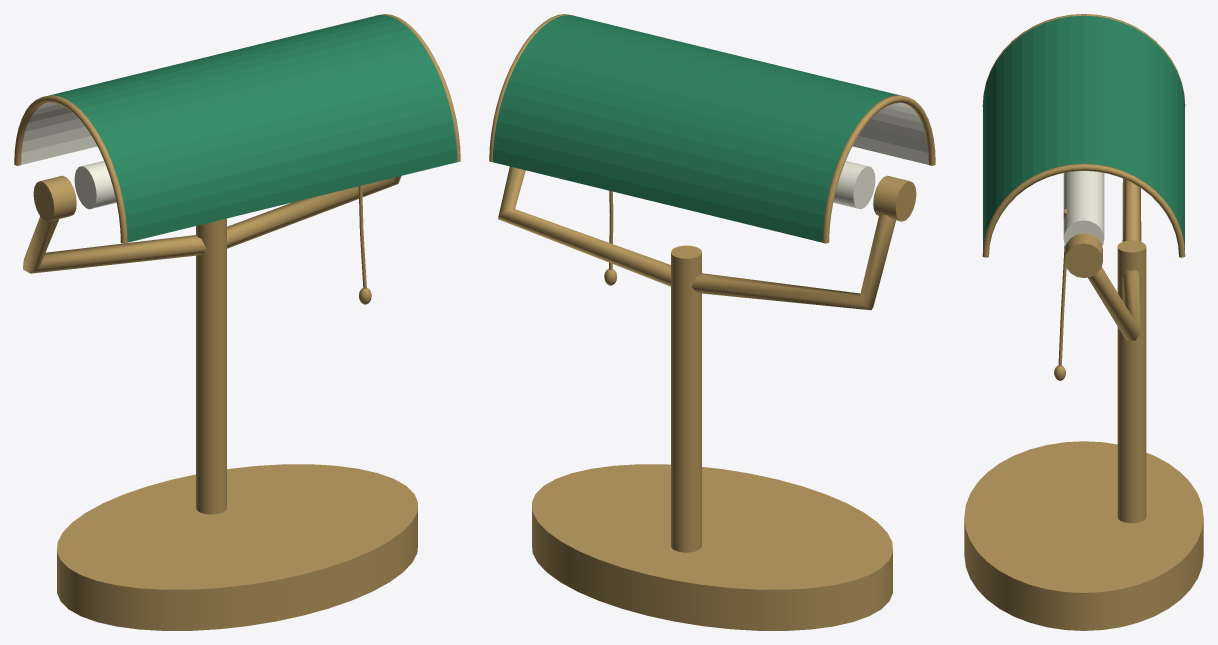
The model's file is lamp_bankers_desk.glb.
3 views of the same model, side by side, from view 1: azimuth 30°, elevation 25°; view 2: azimuth 150°, elevation 25°; view 3: azimuth 270°, elevation 25° (orthographic). The views are drawn at different scales.
Visible parts, largest first — view 1: Arched green bankers shade, Oval bankers lamp base, Upright brass stem, Curved shade support, Curved shade support.001, Shade end rim, Shade pivot knob, Horizontal pale bulb, Shade end rim.001; view 2: Arched green bankers shade, Oval bankers lamp base, Upright brass stem, Curved shade support, Curved shade support.001, Shade end rim, Shade pivot knob, Horizontal pale bulb, Shade end rim.001; view 3: Oval bankers lamp base, Arched green bankers shade, Upright brass stem, Horizontal pale bulb, Shade end rim.001, Curved shade support.001, Shade pivot knob.001, Curved shade support, Shade end rim, Fine pull chain.
Boxes of the visible parts, <box> form: Arched green bankers shade: <box>21,15,457,242</box>; Oval bankers lamp base: <box>57,464,417,630</box>; Upright brass stem: <box>196,218,226,514</box>; Curved shade support: <box>23,216,206,273</box>; Curved shade support.001: <box>226,176,401,248</box>; Shade end rim: <box>14,95,127,243</box>; Shade pivot knob: <box>33,175,76,221</box>; Horizontal pale bulb: <box>74,161,116,209</box>; Shade end rim.001: <box>375,14,460,162</box>; Arched green bankers shade: <box>492,15,928,242</box>; Oval bankers lamp base: <box>532,464,892,630</box>; Upright brass stem: <box>671,245,701,552</box>; Curved shade support: <box>691,214,895,310</box>; Curved shade support.001: <box>498,166,671,286</box>; Shade end rim: <box>822,95,935,243</box>; Shade pivot knob: <box>873,175,916,221</box>; Horizontal pale bulb: <box>833,161,875,209</box>; Shade end rim.001: <box>489,14,574,162</box>; Oval bankers lamp base: <box>964,441,1203,630</box>; Arched green bankers shade: <box>983,15,1184,249</box>; Upright brass stem: <box>1117,240,1146,523</box>; Horizontal pale bulb: <box>1063,171,1104,245</box>; Shade end rim.001: <box>982,163,1185,257</box>; Curved shade support.001: <box>1087,267,1141,340</box>; Shade pivot knob.001: <box>1065,233,1102,277</box>; Curved shade support: <box>1122,179,1141,241</box>; Shade end rim: <box>982,14,1185,106</box>; Fine pull chain: <box>1058,245,1066,366</box>.
Bounding box in the file's own units: 0.344 × 0.4296 × 0.2.
